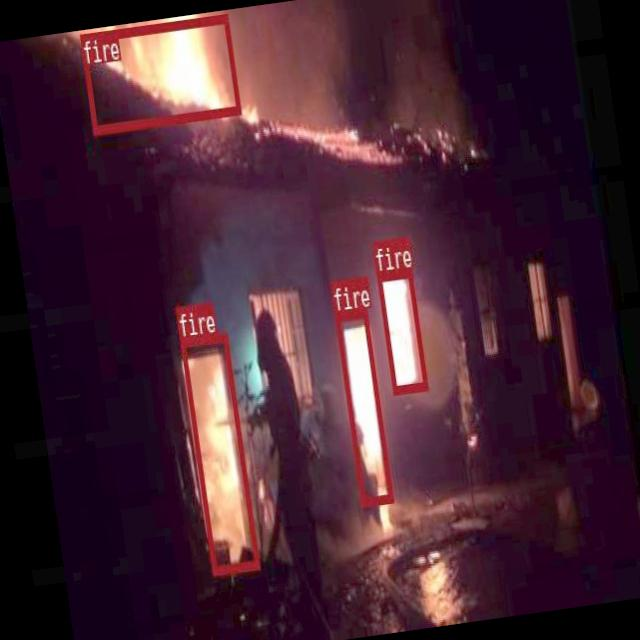fire: (180, 330, 260, 574), (79, 12, 240, 133), (334, 308, 393, 506), (376, 268, 428, 394)
